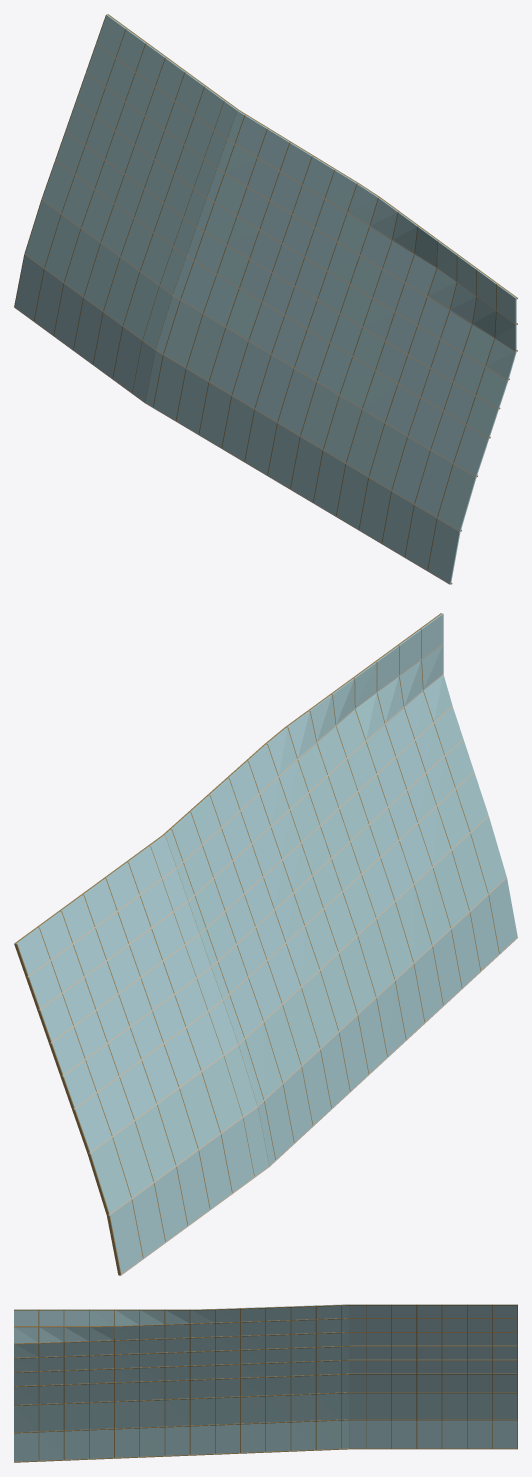
Rendered from G7_Completion_R003_Body_-1_06.glb.
3 renders of one model, top to bottom at view 1: azimuth 30°, elevation 25°; view 2: azimuth 150°, elevation 25°; view 3: azimuth 270°, elevation 25°, orthographic. The views are drawn at different scales.
Parts seen in each view (by area): view 1: Body_-1_06_G7C3_glass_solid_skin, Body_-1_06_G7C3_metal_solid_skin, Body_-1_06_G7C3_shell_solid_skin, Body_-1_06_G7C3_metal_solid_frame; view 2: Body_-1_06_G7C3_glass_solid_skin, Body_-1_06_G7C3_metal_solid_skin, Body_-1_06_G7C3_shell_solid_skin, Body_-1_06_G7C3_metal_solid_frame; view 3: Body_-1_06_G7C3_glass_solid_skin, Body_-1_06_G7C3_metal_solid_frame.
Boxes of the visible parts, box(x1,y1,x2,y2) form: Body_-1_06_G7C3_glass_solid_skin: box(15, 15, 516, 583); Body_-1_06_G7C3_metal_solid_skin: box(14, 14, 496, 570); Body_-1_06_G7C3_shell_solid_skin: box(14, 43, 516, 584); Body_-1_06_G7C3_metal_solid_frame: box(107, 14, 517, 584); Body_-1_06_G7C3_glass_solid_skin: box(16, 613, 517, 1273); Body_-1_06_G7C3_metal_solid_skin: box(15, 629, 499, 1274); Body_-1_06_G7C3_shell_solid_skin: box(27, 643, 517, 1275); Body_-1_06_G7C3_metal_solid_frame: box(14, 613, 441, 1275); Body_-1_06_G7C3_glass_solid_skin: box(14, 1304, 517, 1461); Body_-1_06_G7C3_metal_solid_frame: box(14, 1304, 517, 1462).
Bounding box in the file's own units: 19.54 × 45.5 × 120.
3 materials, 2 textured.
